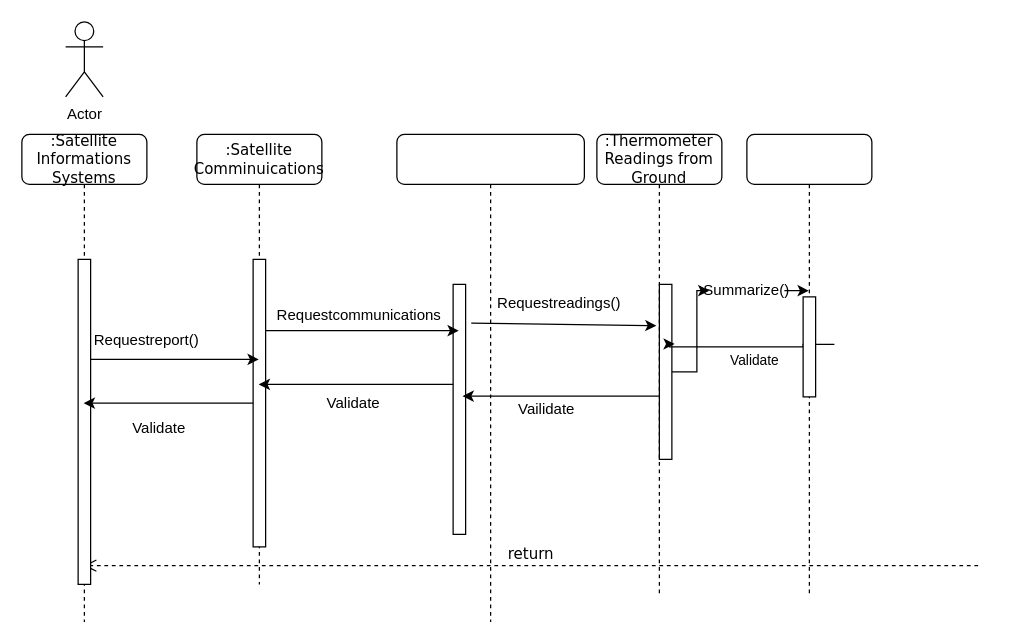
Some shapes in this 1013 by 644 pixel diagram are drawn without their labels. Each missing label, with the box of its shape:
:Weather Database: (746, 133, 872, 597)
:Weather Station: (396, 133, 584, 622)
